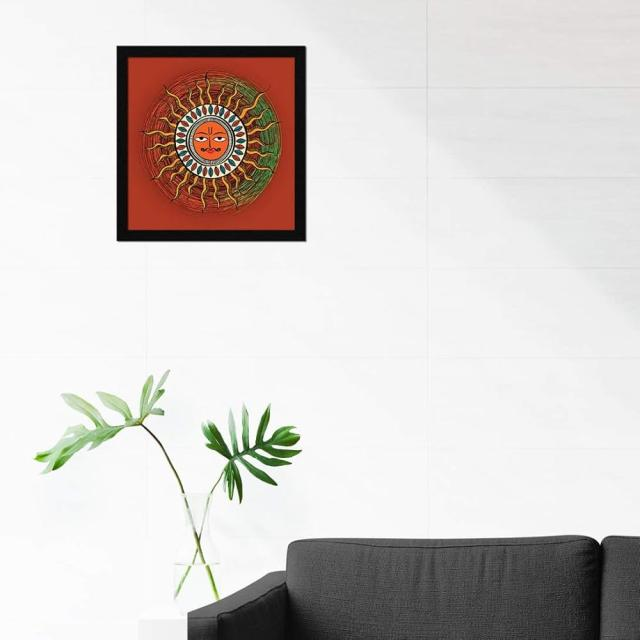painting: (117, 45, 307, 239)
